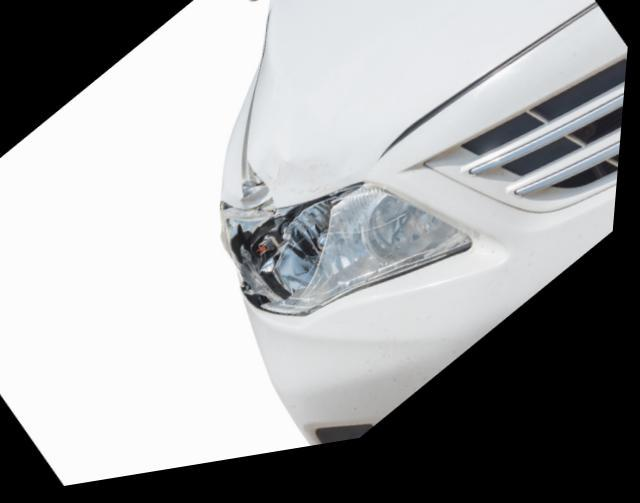lamp broken: (226, 193, 478, 326)
